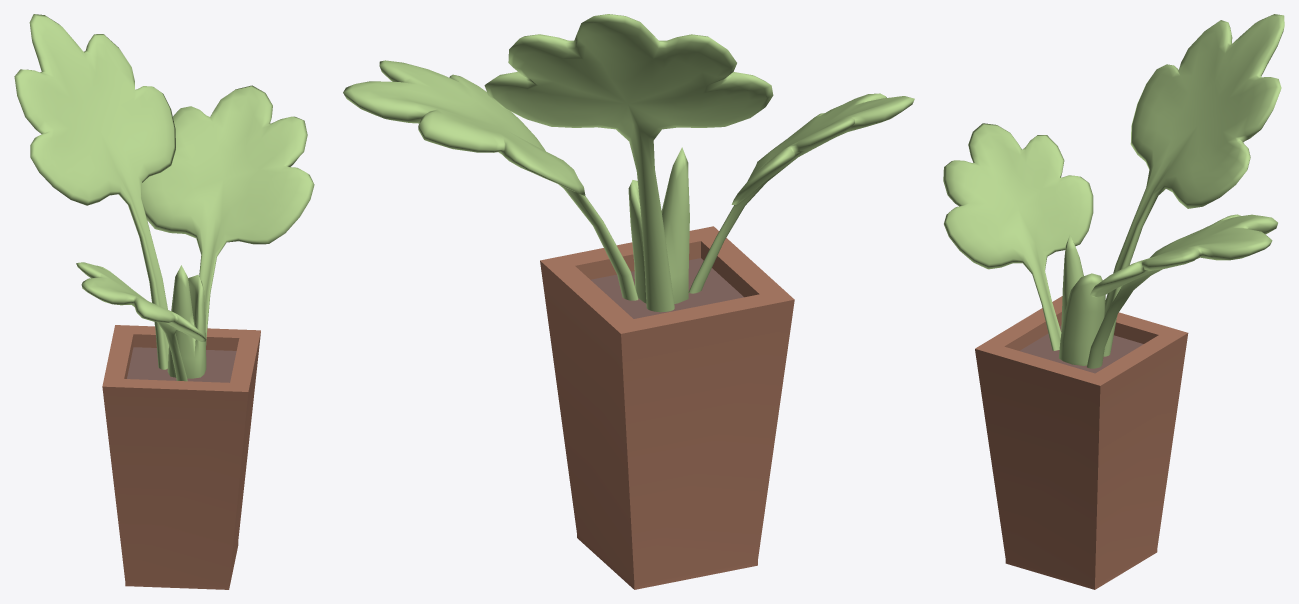
Rendered from leaf-plant-transformed.glb.
3 views of the same model, side by side, from view 1: azimuth 30°, elevation 25°; view 2: azimuth 150°, elevation 25°; view 3: azimuth 270°, elevation 25° (orthographic). The views are drawn at different scales.
Visible parts, largest first — view 1: Merged Geometry.029, Cube 18.003, Ellipse.001; view 2: Cube 18.003, Merged Geometry.029, Ellipse.001; view 3: Merged Geometry.029, Cube 18.003, Ellipse.001.
Part boxes in pixels (bbox=[...]): Merged Geometry.029: bbox=[14, 14, 314, 381]; Cube 18.003: bbox=[102, 325, 260, 589]; Ellipse.001: bbox=[127, 347, 236, 382]; Cube 18.003: bbox=[540, 226, 794, 589]; Merged Geometry.029: bbox=[343, 14, 914, 312]; Ellipse.001: bbox=[590, 258, 743, 318]; Merged Geometry.029: bbox=[943, 14, 1284, 368]; Cube 18.003: bbox=[975, 296, 1188, 589]; Ellipse.001: bbox=[1020, 326, 1143, 373].
Bounding box in the file's own units: 0.996 × 1.5 × 0.8985.
